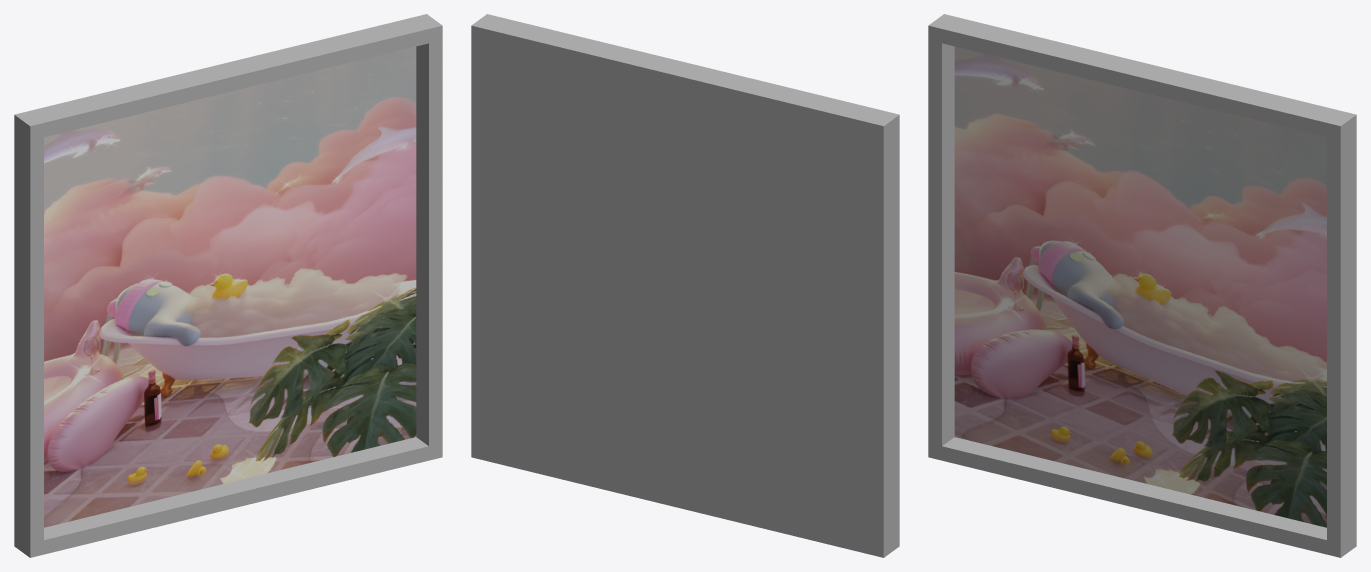
The model's file is index.gltf.
The picture shows the model from 3 angles, left to right: view 1: azimuth 30°, elevation 25°; view 2: azimuth 150°, elevation 25°; view 3: azimuth 330°, elevation 25°; orthographic projection.
Visible parts, largest first — view 1: art, frame; view 2: frame; view 3: art, frame.
Part boxes in pixels (x1,y1,x2,y2): art: (44, 46, 416, 527); frame: (14, 14, 442, 557); frame: (471, 14, 899, 557); art: (954, 46, 1326, 527); frame: (928, 14, 1356, 557).
Size of the model in its own units: 0.03 by 0.03 by 0.002.
Materials: 2 (1 with a texture image).
